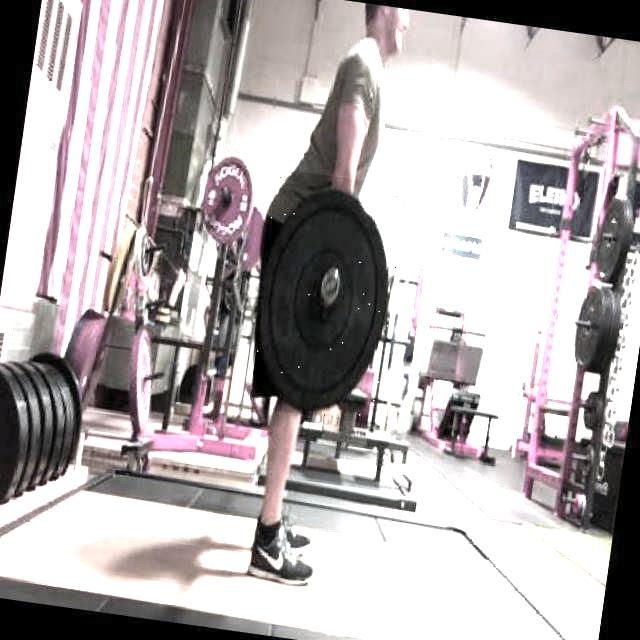barbell: (240, 168, 412, 425), (192, 148, 266, 256)
